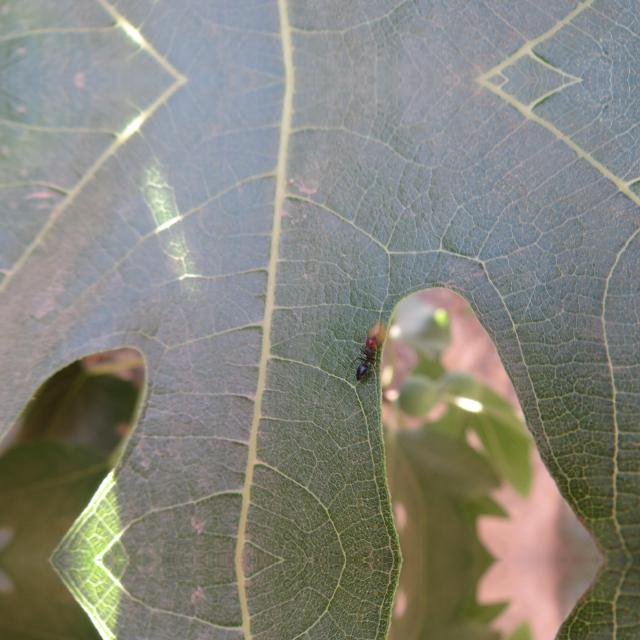Crematogaster: (346, 328, 382, 382)
